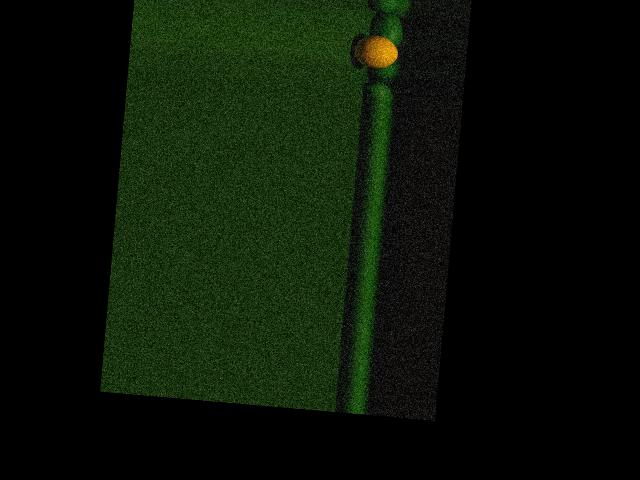egg: (352, 33, 398, 70)
